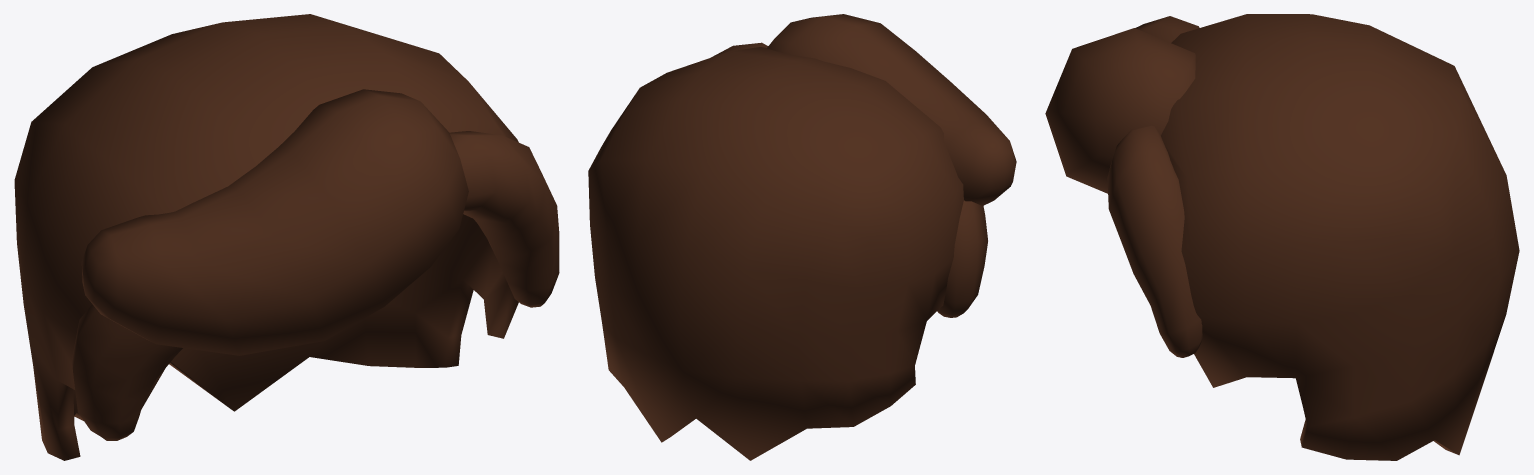
The picture shows the model from 3 angles, left to right: view 1: azimuth 30°, elevation 25°; view 2: azimuth 150°, elevation 25°; view 3: azimuth 270°, elevation 25°; orthographic projection. The views are drawn at different scales.
Parts seen in each view (by area): view 1: hairShortFrontParting; view 2: hairShortFrontParting; view 3: hairShortFrontParting.
Part boxes in pixels (x1,y1,x2,y2): hairShortFrontParting: (14, 14, 559, 460); hairShortFrontParting: (588, 14, 1016, 460); hairShortFrontParting: (1045, 14, 1519, 460).
Bounding box in the file's own units: 0.5303 × 0.4862 × 0.5263.
1 material, 1 textured.
